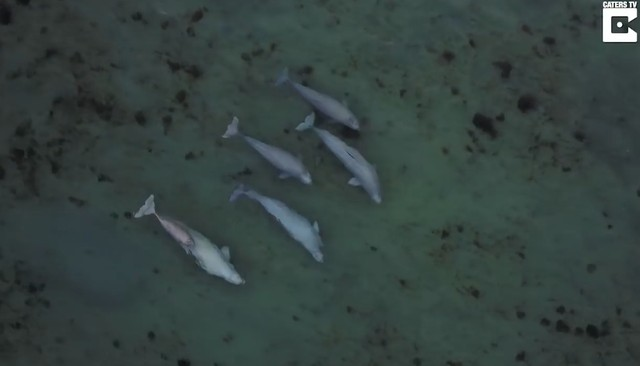whale: (131, 190, 251, 295), (296, 109, 395, 212), (226, 177, 331, 269), (215, 112, 317, 197), (274, 63, 370, 138)
